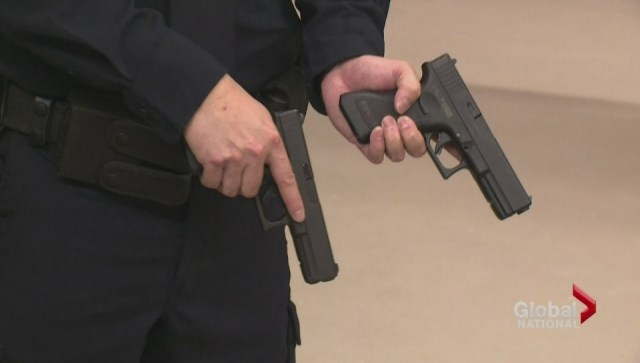Gun: (337, 52, 535, 224), (182, 104, 340, 287)
